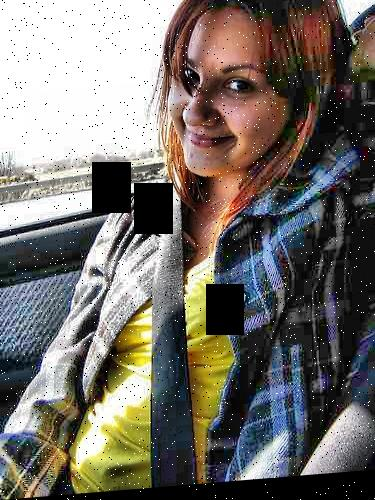seatbelt: (105, 143, 236, 457)
